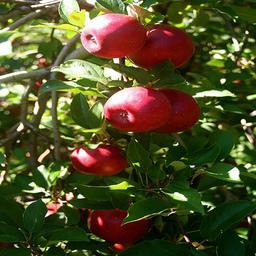apple: (81, 13, 148, 59), (103, 86, 171, 131), (129, 23, 194, 70), (88, 205, 153, 241), (155, 87, 200, 130), (71, 144, 126, 175)
